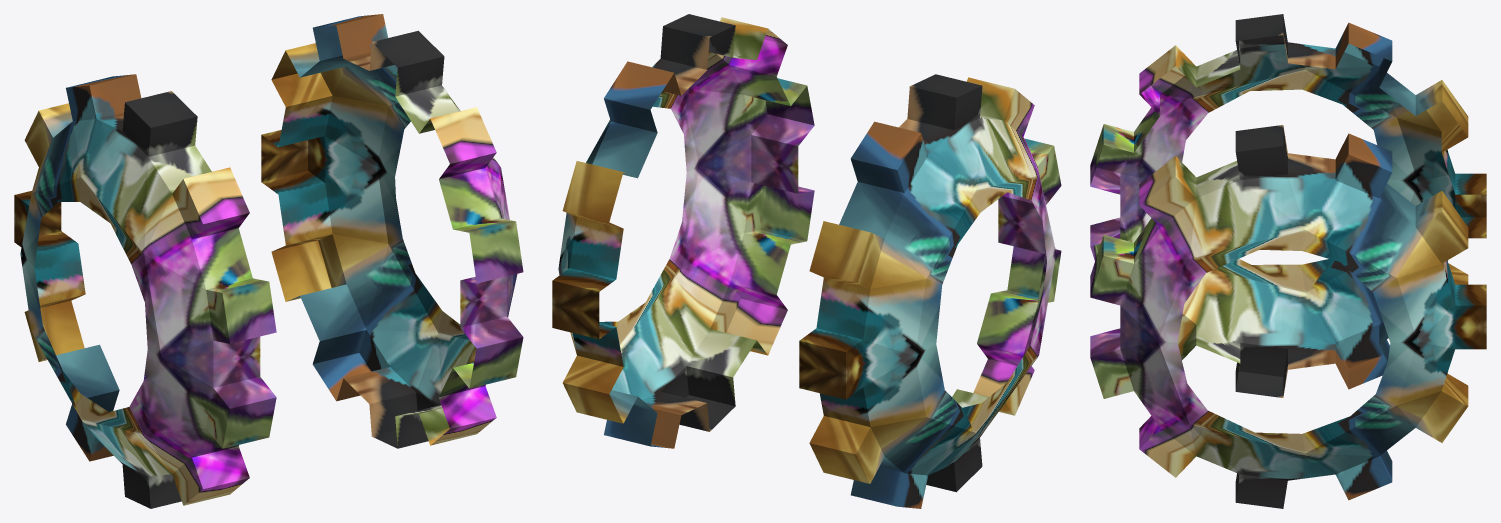
File: chilun.FBX
The picture shows the model from 3 angles, left to right: view 1: azimuth 30°, elevation 25°; view 2: azimuth 150°, elevation 25°; view 3: azimuth 270°, elevation 25°; orthographic projection. The views are drawn at different scales.
Parts seen in each view (by area): view 1: Object006; view 2: Object006; view 3: Object006.
Part boxes in pixels (x1,y1,x2,y2): Object006: (14, 14, 523, 508); Object006: (552, 14, 1061, 508); Object006: (1090, 14, 1486, 508).
Size of the model in its own units: 17.87 by 18.54 by 18.35.
